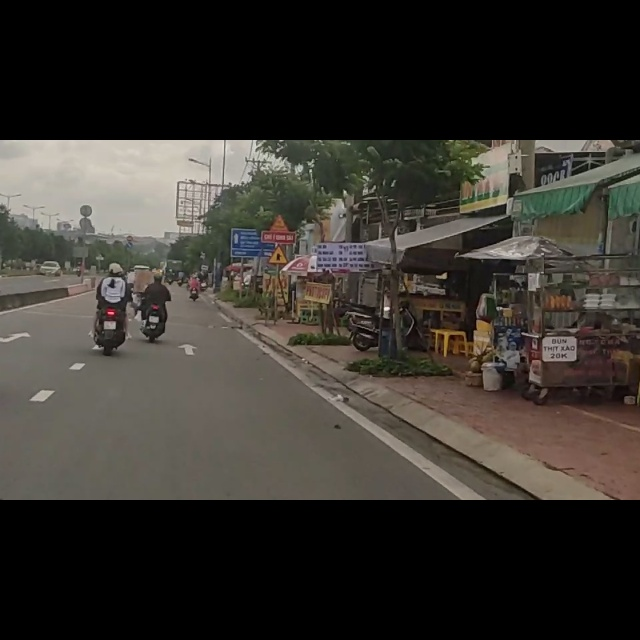bien_chi_dan: (265, 186, 289, 223)
